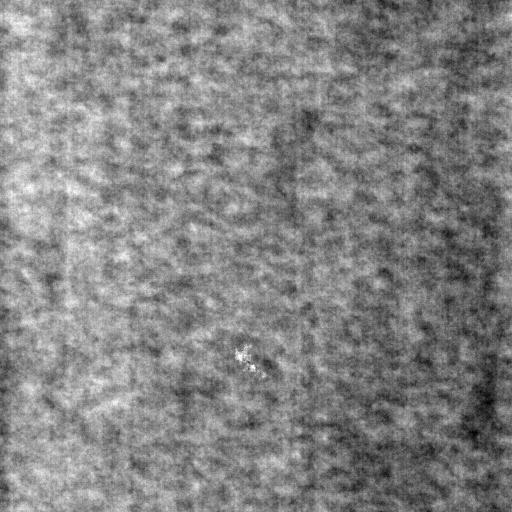DefectTypeA: (240, 344, 272, 380)
